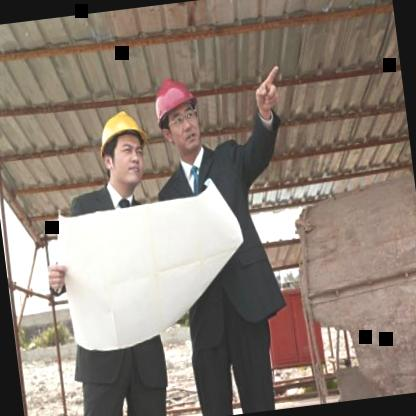helmet: (88, 96, 158, 204), (140, 64, 212, 165)
